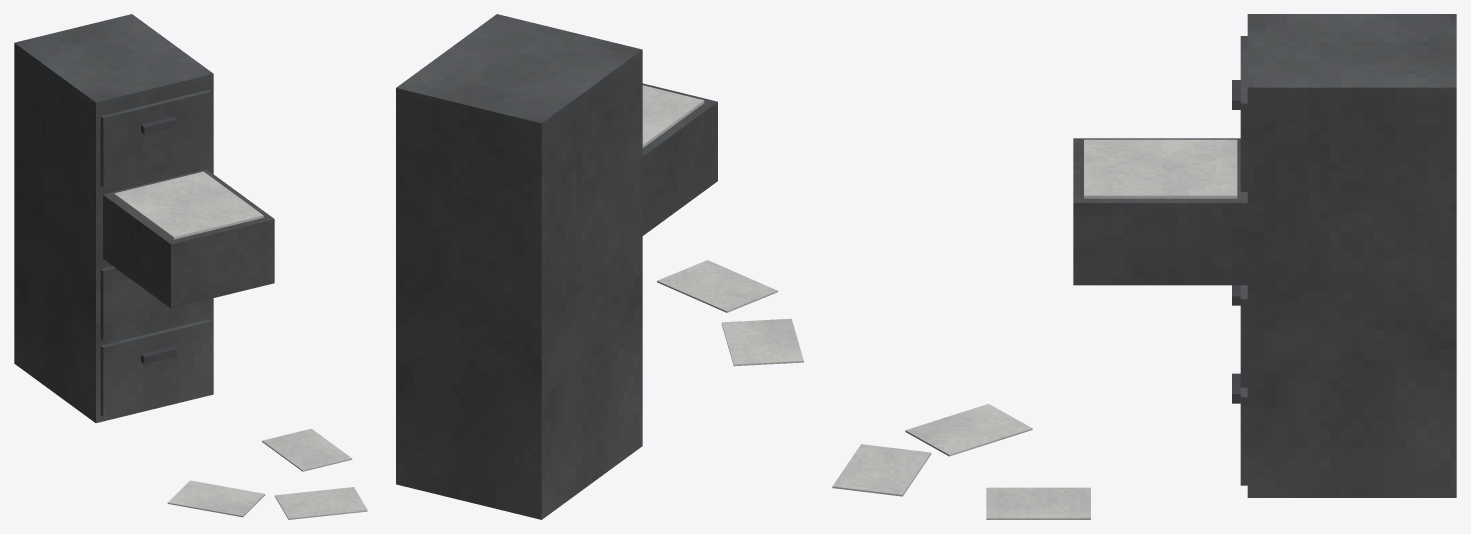
The model's file is int_filing_cabinet.glb.
3 views of the same model, side by side, from view 1: azimuth 30°, elevation 25°; view 2: azimuth 150°, elevation 25°; view 3: azimuth 270°, elevation 25° (orthographic). The views are drawn at different scales.
Parts seen in each view (by area): view 1: detail, body-col; view 2: body-col, detail; view 3: body-col, detail.
Boxes of the visible parts, left/top/right/bottom form: detail: left=100, top=90, right=367, bottom=519; body-col: left=14, top=14, right=213, bottom=422; body-col: left=396, top=14, right=642, bottom=519; detail: left=642, top=83, right=803, bottom=366; body-col: left=1247, top=14, right=1456, bottom=497; detail: left=832, top=36, right=1247, bottom=519.
Size of what is drawn, in the model's own units: 0.7791 by 1.3 by 1.79.
Materials: 3 (3 with a texture image).
